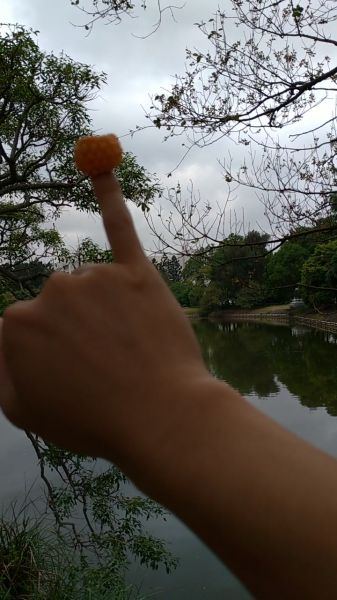eggs: (70, 134, 122, 174)
